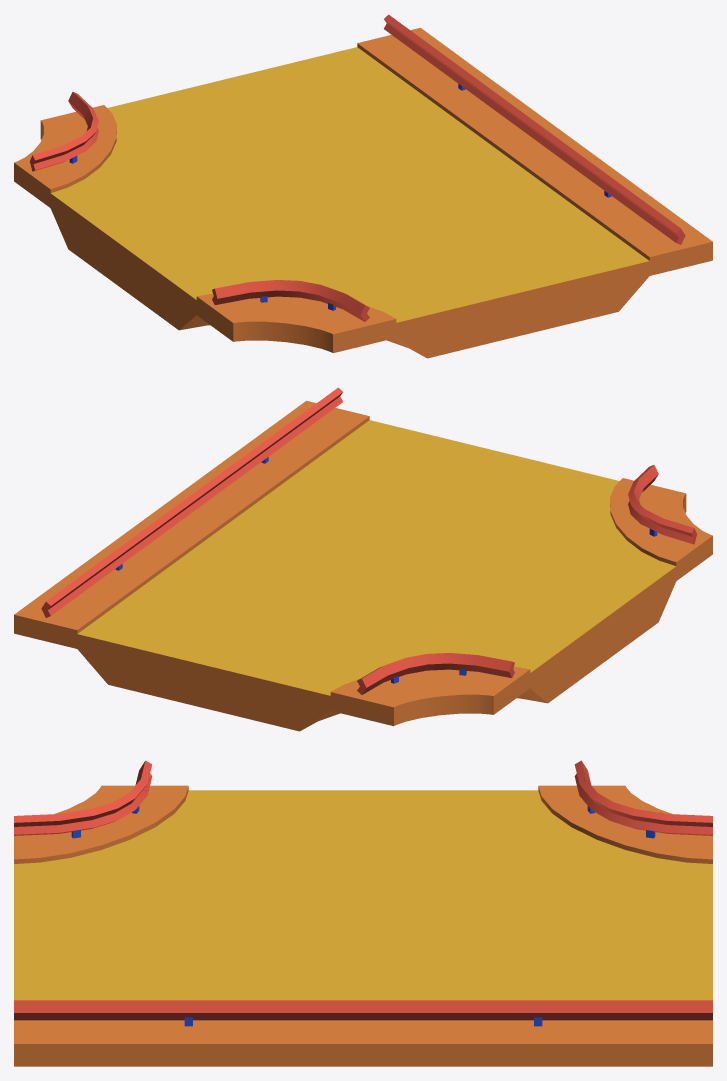
The model's file is Bridge3WaysFBX.fbx.
3 renders of one model, top to bottom at view 1: azimuth 30°, elevation 25°; view 2: azimuth 150°, elevation 25°; view 3: azimuth 270°, elevation 25°, orthographic. The views are drawn at different scales.
Visible parts, largest first — view 1: Bridge3Ways; view 2: Bridge3Ways; view 3: Bridge3Ways.
Boxes of the visible parts, bbox=[...] form: Bridge3Ways: bbox=[14, 14, 712, 358]; Bridge3Ways: bbox=[14, 387, 712, 731]; Bridge3Ways: bbox=[14, 760, 712, 1066].
Bounding box in the file's own units: 87.5 × 12.86 × 100.
